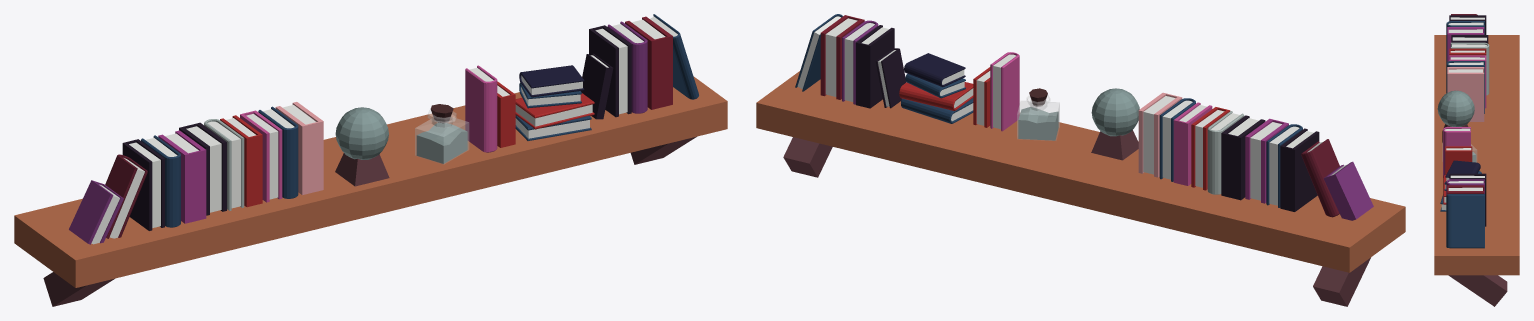
The model's file is Estante-livros.fbx.
3 views of the same model, side by side, from view 1: azimuth 30°, elevation 25°; view 2: azimuth 150°, elevation 25°; view 3: azimuth 270°, elevation 25° (orthographic). The views are drawn at different scales.
Visible parts, largest first — view 1: Cube.115, Cube.110, Cylinder, Cube.066, PoçaoQuadrada.003, Cube.108, Cube.068, Cube.094, Cube.065, Cube.109, Cube.077, Cube.074 (+13 smaller); view 2: Cube.115, Cube.110, Cube.108, Cube.066, Cylinder, Cube.077, Cube.068, Cube.065, PoçaoQuadrada.003, Cube.094, Cube.109, Cube.074 (+13 smaller); view 3: Cube.115, Cylinder.002, Cube.068, Cube.110, Cylinder, Cube.063, Cylinder.008, Cylinder.005, Cube.094, Cube.066, Cube.065, Cylinder.007 (+8 smaller).
Boxes of the visible parts, x1,y1,x2,y2 form: Cube.115: (14, 76, 727, 306); Cube.110: (335, 107, 389, 186); Cylinder: (465, 65, 497, 152); Cube.066: (589, 25, 631, 117); PoçaoQuadrada.003: (415, 104, 468, 164); Cube.108: (122, 139, 164, 230); Cube.068: (275, 102, 323, 194); Cube.094: (158, 130, 206, 223); Cube.065: (625, 16, 672, 109); Cube.109: (69, 180, 123, 244); Cube.077: (179, 122, 226, 215); Cube.074: (240, 110, 282, 202); Cube.115: (756, 71, 1405, 306); Cube.110: (1091, 88, 1139, 160); Cube.108: (1280, 128, 1319, 211); Cube.066: (855, 25, 894, 108); Cylinder: (990, 52, 1019, 131); Cube.077: (1221, 115, 1265, 200); Cube.068: (1138, 92, 1182, 177); Cube.065: (820, 15, 864, 99); PoçaoQuadrada.003: (1017, 88, 1059, 140); Cube.094: (1245, 118, 1288, 203); Cube.109: (1323, 161, 1373, 220); Cube.074: (1173, 102, 1212, 185); Cube.115: (1434, 35, 1519, 306); Cylinder.002: (1446, 194, 1484, 248); Cube.068: (1447, 67, 1484, 121); Cube.110: (1437, 90, 1474, 142); Cylinder: (1443, 127, 1470, 177); Cube.063: (1445, 146, 1472, 175); Cylinder.008: (1450, 42, 1489, 95); Cylinder.005: (1445, 160, 1480, 183); Cube.094: (1447, 27, 1484, 61); Cube.066: (1449, 173, 1486, 226); Cube.065: (1447, 185, 1484, 194); Cylinder.007: (1446, 61, 1484, 113).
Bounding box in the file's own units: 353 × 79.75 × 57.57.
